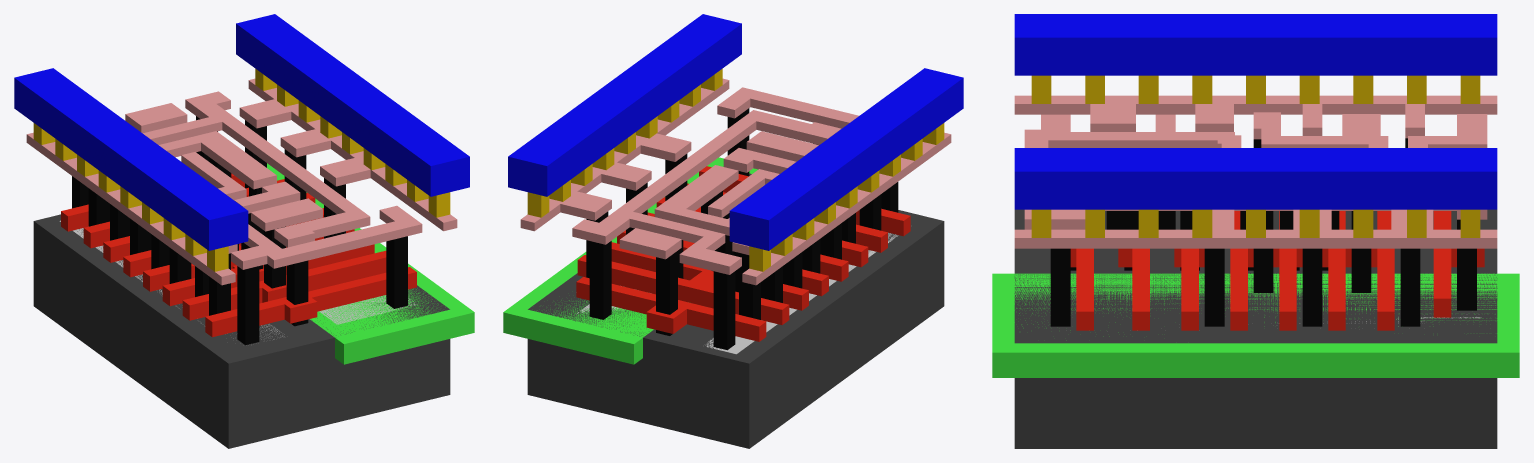
The model's file is sky130_fd_sc_hd__or3b_4.obj.
The picture shows the model from 3 angles, left to right: view 1: azimuth 30°, elevation 25°; view 2: azimuth 150°, elevation 25°; view 3: azimuth 270°, elevation 25°; orthographic projection. The views are drawn at different scales.
Parts seen in each view (by area): view 1: subs, metal1, li, poly, licon, nwell, mcon, tap; view 2: subs, metal1, li, poly, licon, nwell, mcon, diff; view 3: metal1, subs, li, nwell, poly, licon, mcon.
Boxes of the visible parts, x1,y1,x2,y2 form: subs: (33,214,450,448); metal1: (14,14,469,250); li: (26,78,457,285); poly: (61,173,416,337); licon: (72,116,407,345); nwell: (267,163,474,364); mcon: (33,68,450,271); tap: (319,295,417,324); subs: (527,173,944,448); metal1: (508,14,963,250); li: (520,78,951,285); poly: (576,166,910,341); licon: (586,108,898,350); nwell: (503,157,757,364); mcon: (527,68,944,271); diff: (705,233,898,354); metal1: (1014,14,1497,209); subs: (1014,209,1497,448); li: (1014,95,1497,248); nwell: (992,273,1519,377); poly: (1070,211,1484,330); licon: (1050,138,1476,326); mcon: (1031,75,1480,237).
Bounding box in the file's own units: 3.2 × 2.74 × 4.52.
